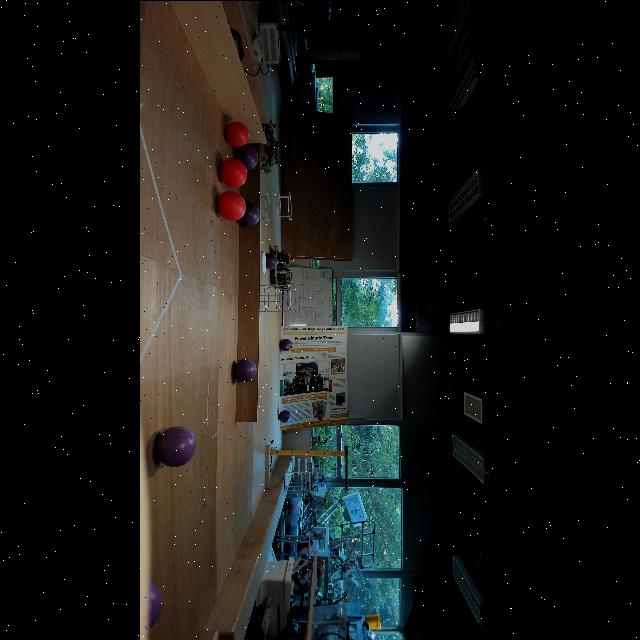P: (154, 424, 198, 468), (234, 144, 260, 170), (236, 200, 262, 226), (233, 358, 257, 382), (263, 251, 279, 269), (278, 410, 292, 422), (280, 338, 292, 350)
R: (218, 156, 248, 188), (216, 190, 247, 220), (224, 119, 250, 147)
S: (258, 283, 292, 311), (262, 192, 292, 220), (284, 470, 320, 492), (290, 456, 322, 476)
